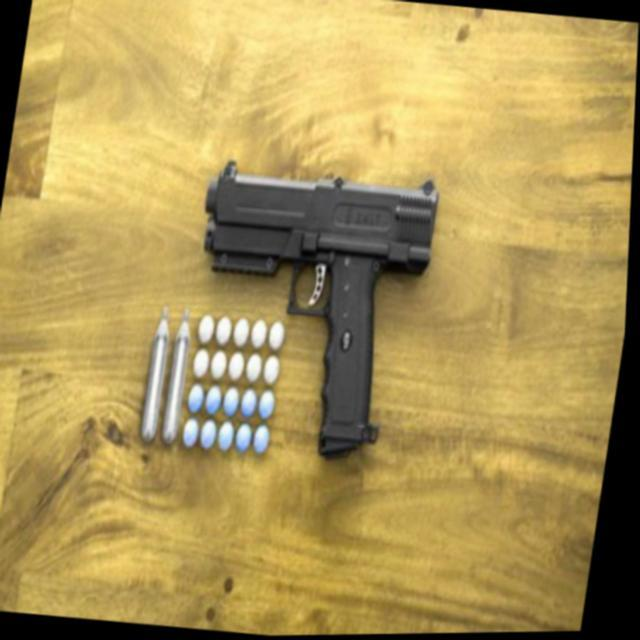weapon: (172, 152, 446, 468)
